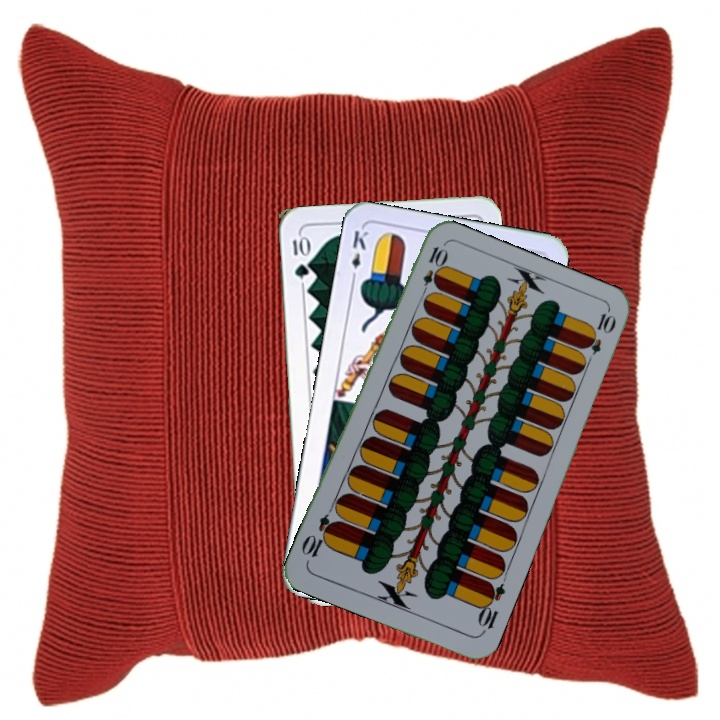E10: (473, 578, 508, 637), (417, 242, 448, 300)
EK: (347, 226, 371, 285)
G10: (288, 232, 311, 281)
